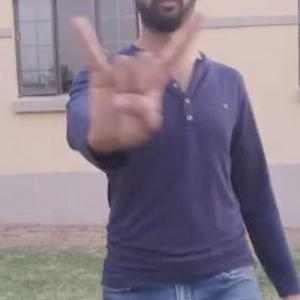takeoff-hand: (68, 0, 210, 160)
